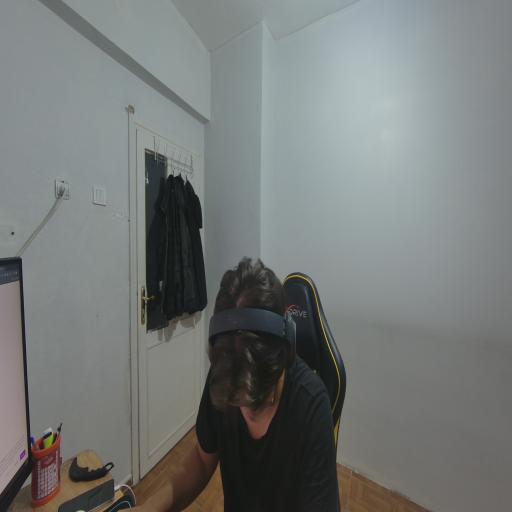cuma-face-v2: (202, 242, 305, 432)
